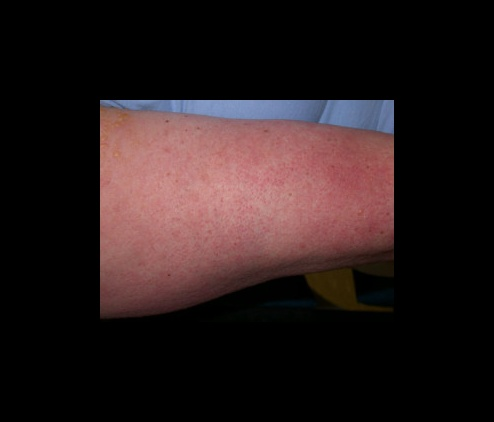SJS-TEN: (90, 100, 144, 181)
